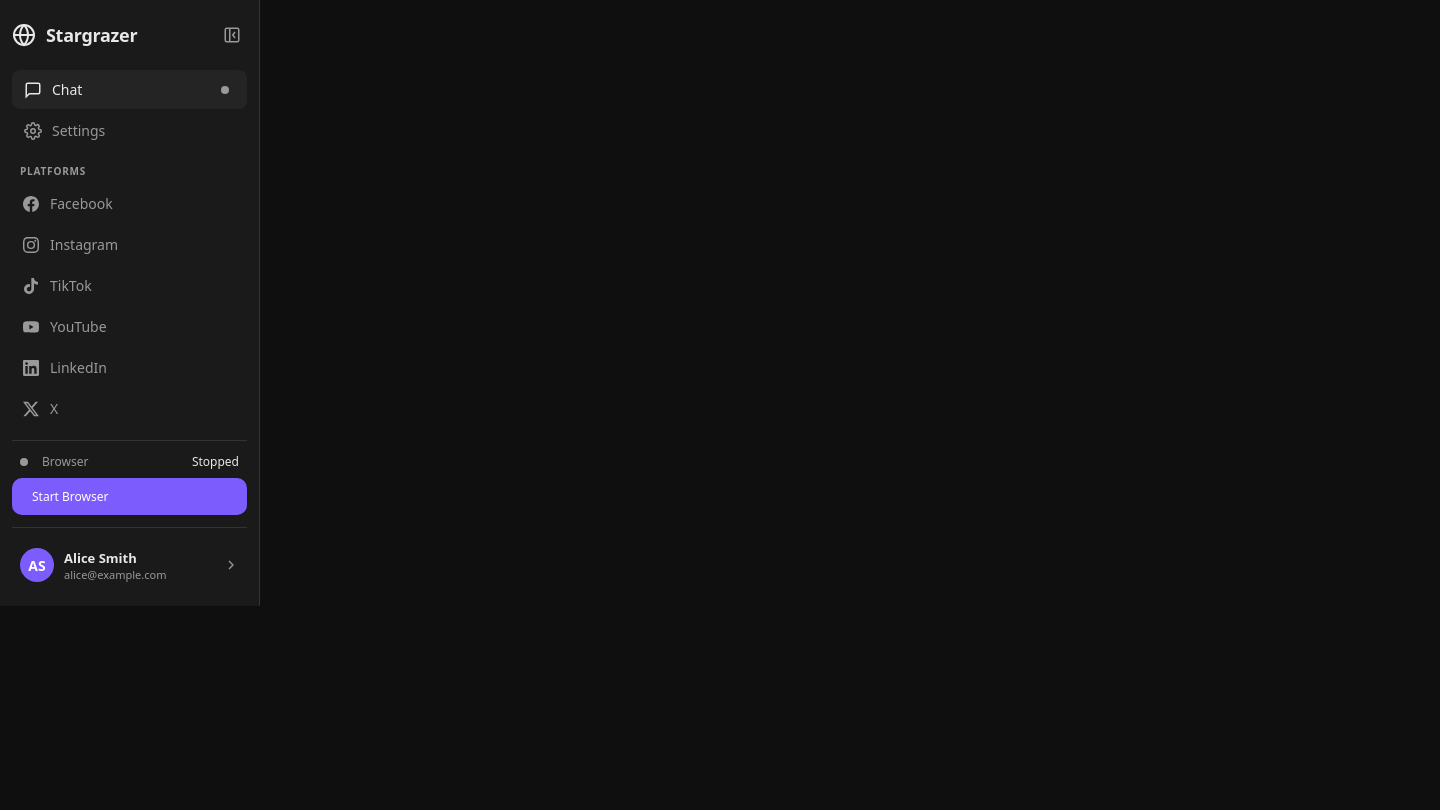
Test: Sidebar – interactions › opens AccountModal when account card is clicked
This screenshot has width=1440, height=810.
Click the button "AS Alice Smith alice@example.com" at (130, 565), box [12,540,247,590]
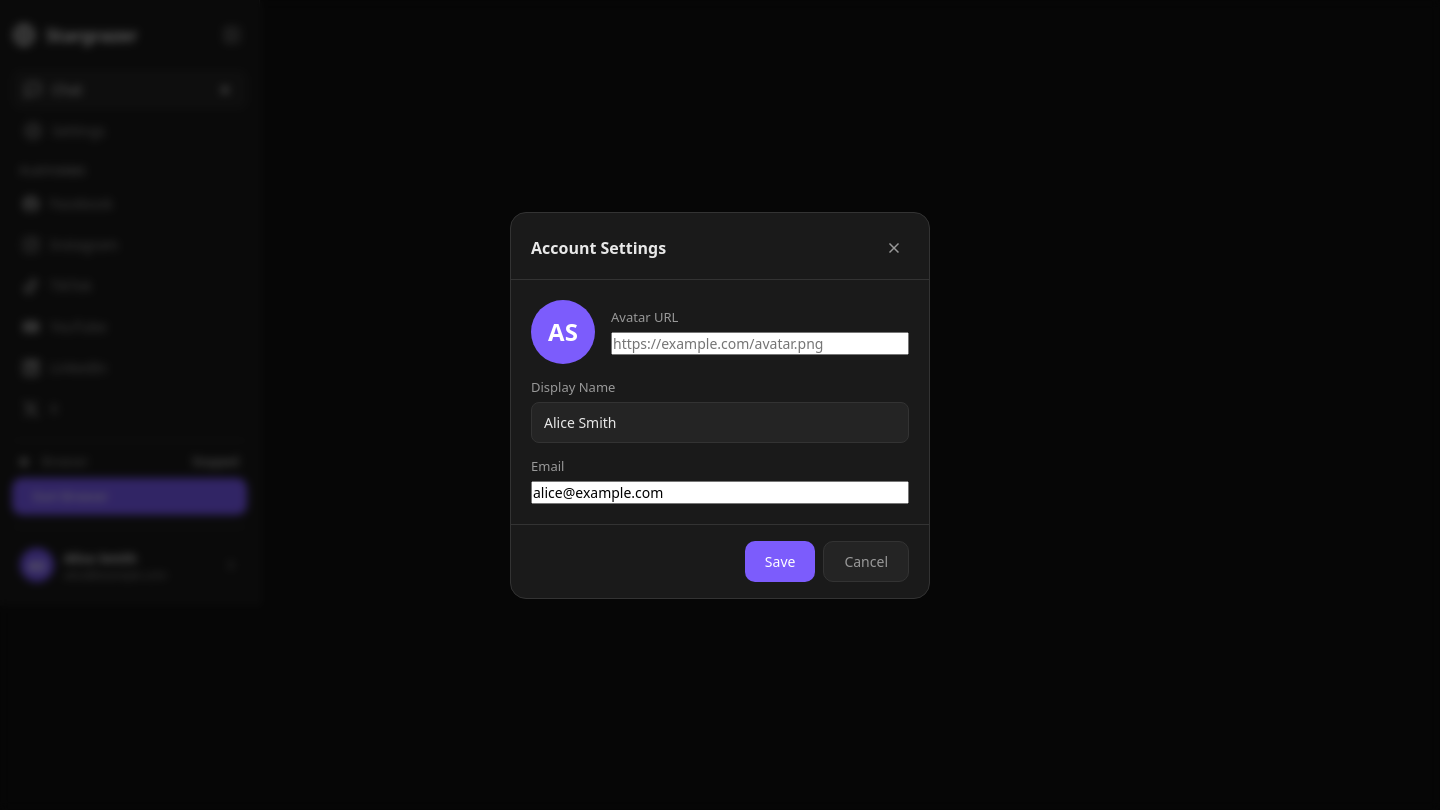
Expected: the heading "Account Settings" is shown, [531,236,666,258]
